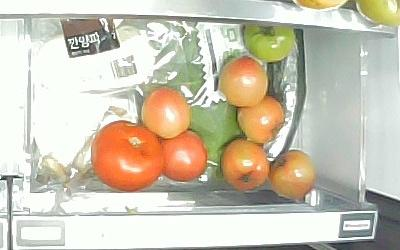tomato: (89, 119, 163, 193), (219, 137, 270, 192), (218, 56, 269, 107), (142, 86, 191, 139), (159, 129, 207, 182), (271, 149, 317, 201), (236, 97, 287, 143), (241, 25, 296, 61)
